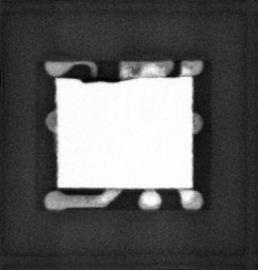DIE_BROKEN: (76, 75, 130, 84)
